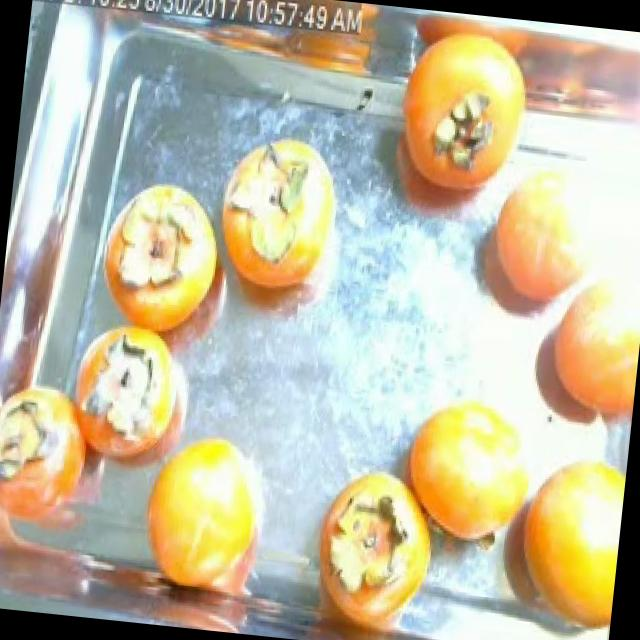Fruit: (122, 411, 288, 619), (295, 446, 456, 640)
